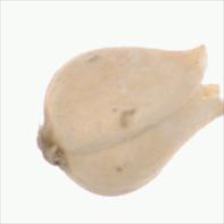L1: (35, 108, 70, 173), (195, 43, 223, 119)
L2: (35, 43, 223, 197)
